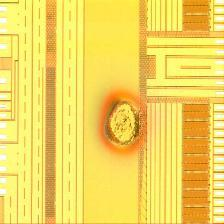PARTICLE: (99, 86, 151, 157)
